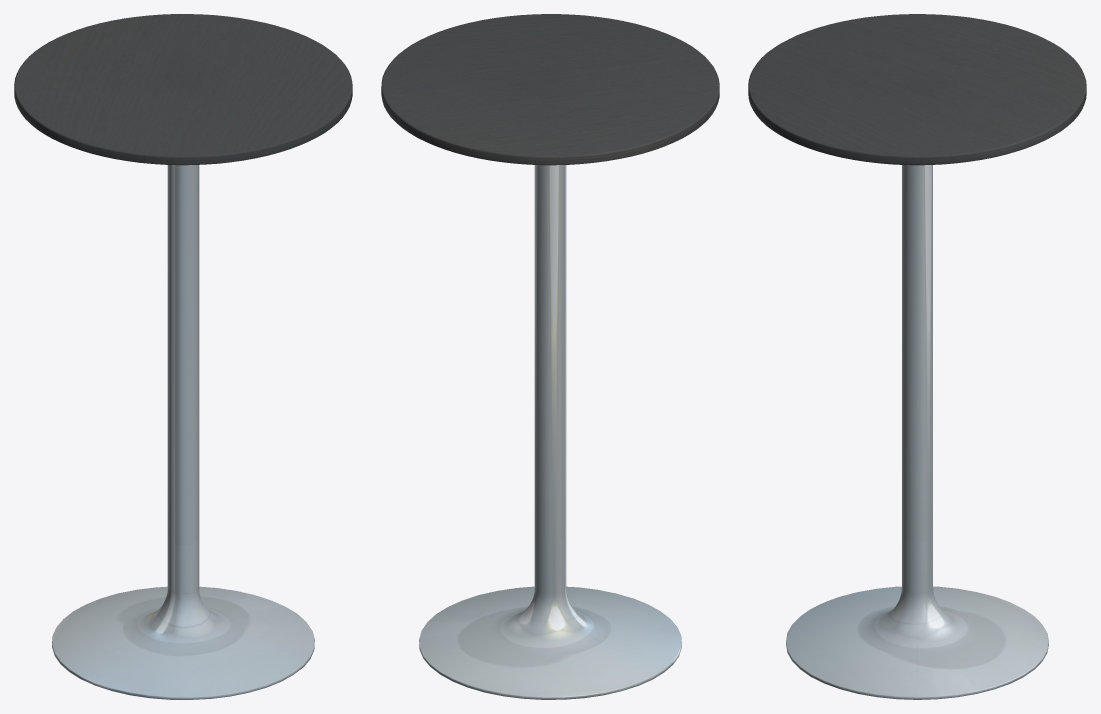
Rendered from amato_110_60_white_chrome_plated.glb.
3 views of the same model, side by side, from view 1: azimuth 30°, elevation 25°; view 2: azimuth 150°, elevation 25°; view 3: azimuth 270°, elevation 25° (orthographic).
Parts seen in each view (by area): view 1: amato_110_o60-black; view 2: amato_110_o60-black; view 3: amato_110_o60-black.
Boxes of the visible parts, box(x1,y1,x2,y2) form: amato_110_o60-black: box(14, 14, 352, 699); amato_110_o60-black: box(381, 14, 719, 699); amato_110_o60-black: box(748, 14, 1086, 699).
Bounding box in the file's own units: 0.6002 × 1.09 × 0.6002.
Materials: 1 (1 with a texture image).
